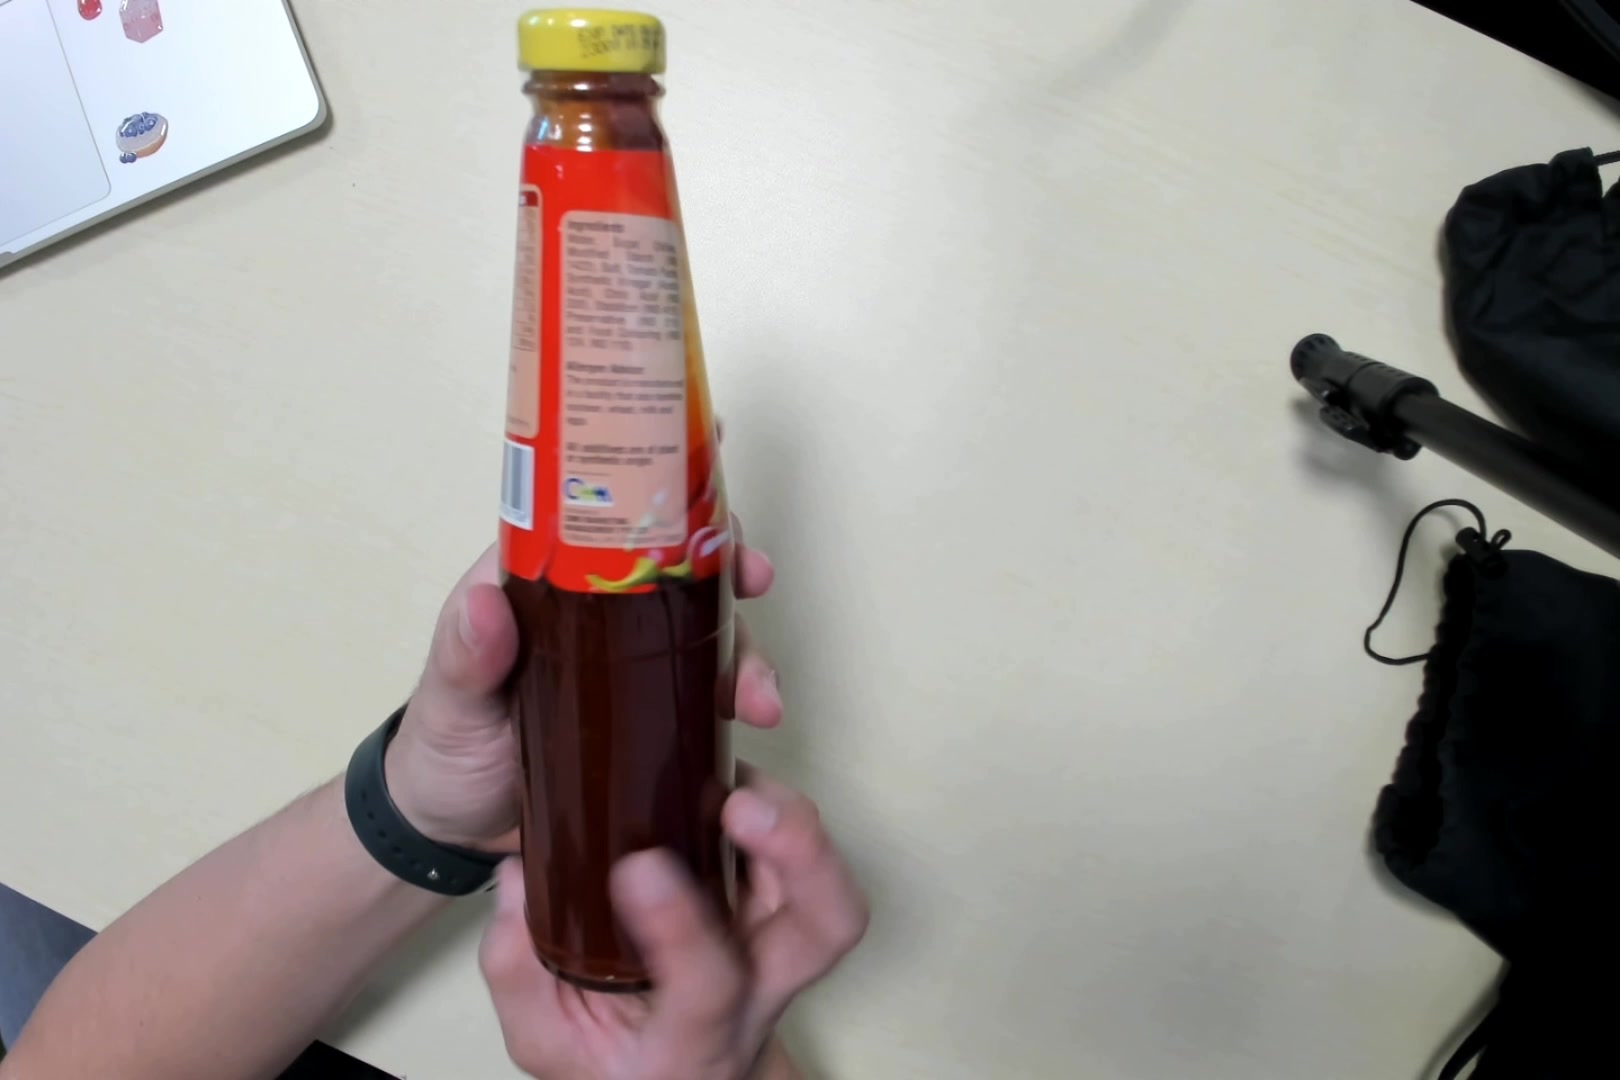KetchupChillSauce_500-599g_Halal_NonHealthy: (495, 7, 735, 992)
